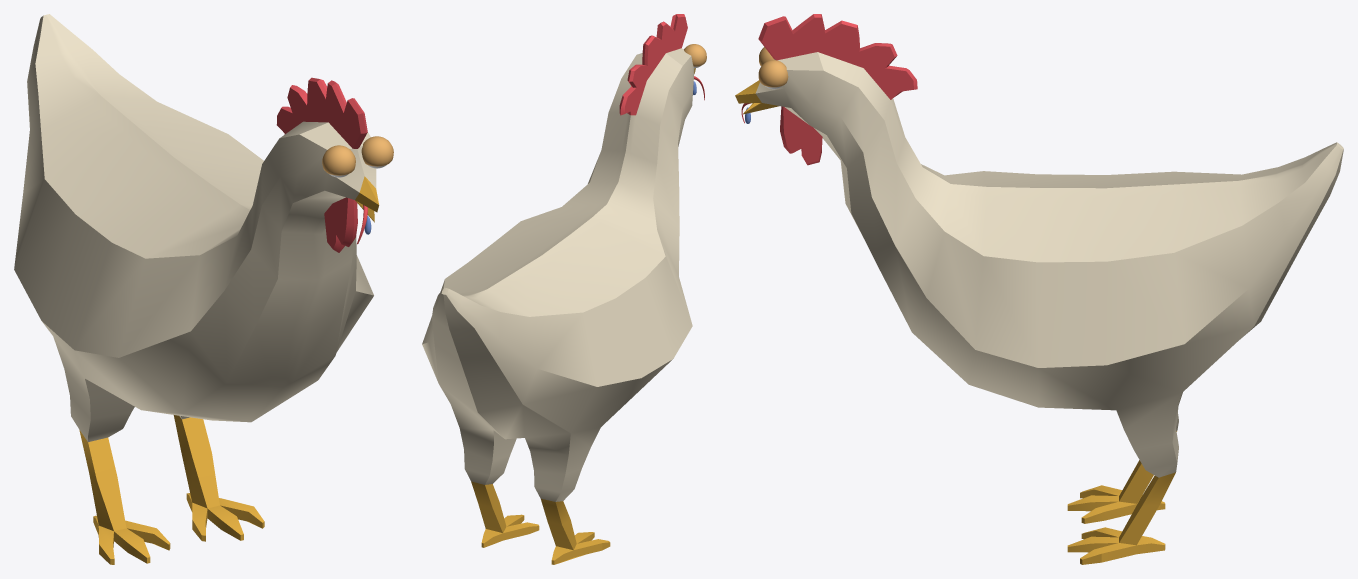
File: chicken wings.fbx
3 views of the same model, side by side, from view 1: azimuth 30°, elevation 25°; view 2: azimuth 150°, elevation 25°; view 3: azimuth 270°, elevation 25° (orthographic). The views are drawn at different scales.
Parts seen in each view (by area): view 1: Plane.009, Sphere.002, Sphere.001; view 2: Plane.009, Sphere.002; view 3: Plane.009.
Boxes of the visible parts, left/top/right/bottom form: Plane.009: left=14, top=14, right=379, bottom=564; Sphere.002: left=322, top=145, right=355, bottom=177; Sphere.001: left=361, top=136, right=393, bottom=168; Plane.009: left=422, top=14, right=695, bottom=564; Sphere.002: left=684, top=44, right=706, bottom=68; Plane.009: left=735, top=14, right=1343, bottom=564.
Size of the model in its own units: 59.24 by 118 by 126.
